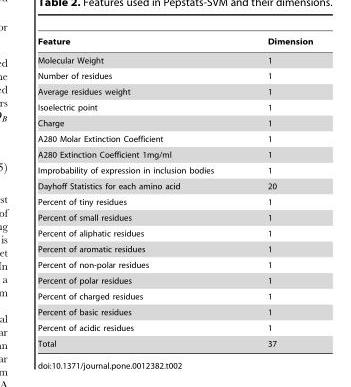table: (37, 36, 312, 347)
table column: (37, 36, 240, 347), (240, 36, 312, 347)
table column header: (37, 36, 312, 50)
table row: (37, 50, 312, 67), (37, 67, 312, 83), (37, 83, 312, 99), (37, 99, 312, 115), (37, 130, 312, 146), (37, 146, 312, 162), (37, 162, 312, 178), (37, 193, 312, 209), (37, 209, 312, 225), (37, 225, 312, 241), (37, 256, 312, 272), (37, 272, 312, 288), (37, 288, 312, 304), (37, 319, 312, 335), (37, 115, 312, 130), (37, 178, 312, 193), (37, 241, 312, 256), (37, 304, 312, 319), (37, 36, 312, 50), (37, 335, 312, 347)
